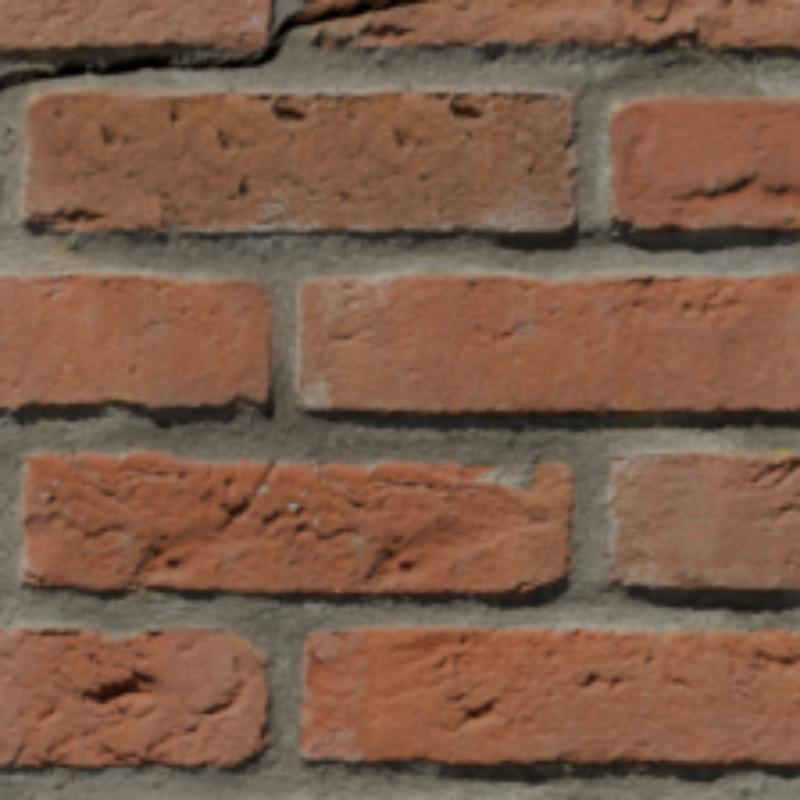crack: (0, 0, 421, 86)
